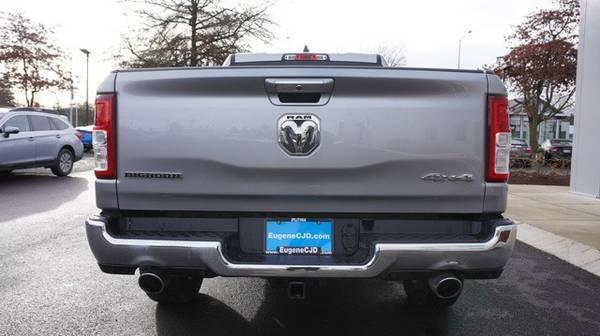Left_Taillight: (95, 91, 118, 178)
Rear_Bumper: (85, 209, 517, 287)
Right_Taillight: (487, 96, 511, 183)
Tailgate: (95, 67, 509, 219)
